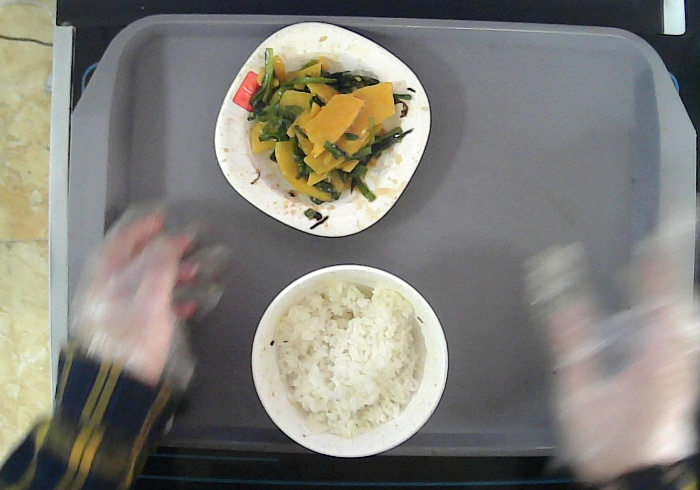SHKJ-Bai_Se_Si_Fang_Cai_Die: (212, 19, 433, 239)
SHKJ-Fan_Wan: (249, 261, 450, 459)
